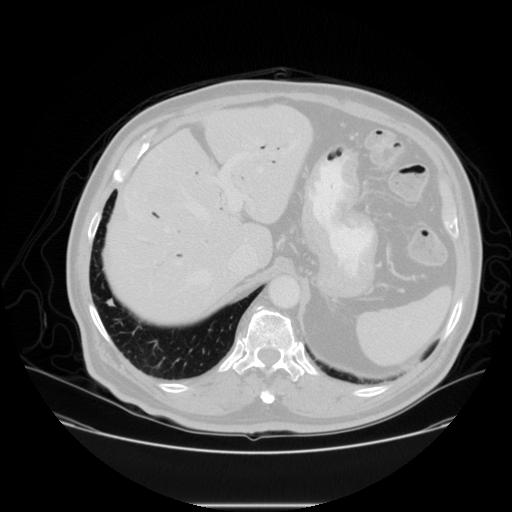nodule: (104, 296, 118, 310)
